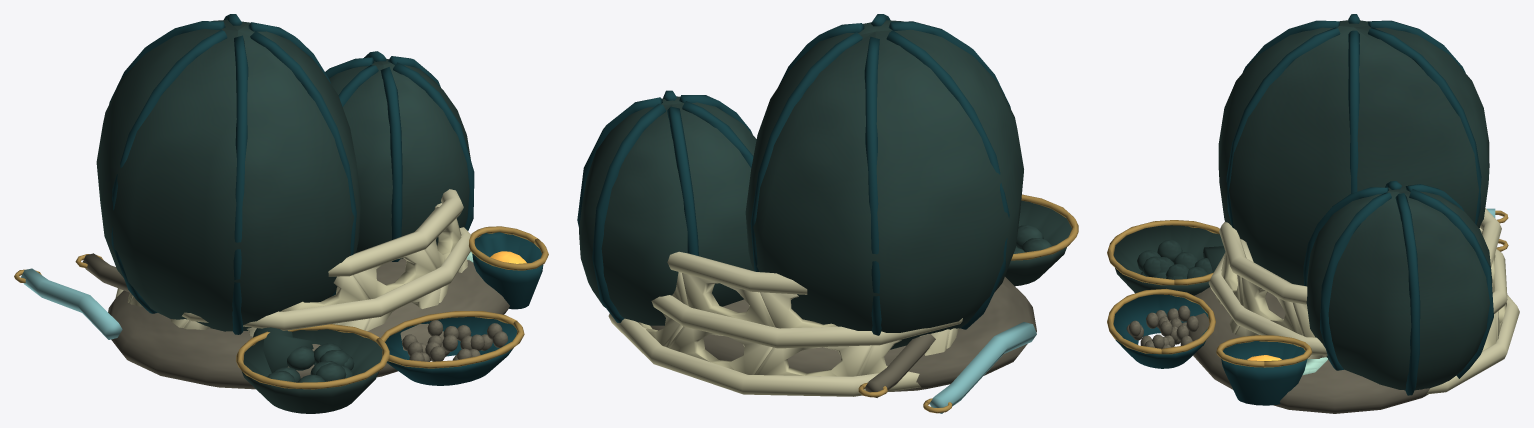
File: 10_waste_digester_lod.glb
The picture shows the model from 3 angles, left to right: view 1: azimuth 30°, elevation 25°; view 2: azimuth 150°, elevation 25°; view 3: azimuth 270°, elevation 25°; orthographic projection. The views are drawn at different scales.
Parts seen in each view (by area): view 1: GrowthShellMesh.009, GrowthFrameMesh.009, CargoOutput__recovered_fertiliserMesh, CargoInput__organic_wasteMesh; view 2: GrowthShellMesh.009, GrowthFrameMesh.009, CargoInput__organic_wasteMesh; view 3: GrowthShellMesh.009, GrowthFrameMesh.009, CargoInput__organic_wasteMesh, CargoOutput__recovered_fertiliserMesh.
Boxes of the visible parts, x1=… form: GrowthShellMesh.009: x1=21, y1=14, x2=543, y2=413; GrowthFrameMesh.009: x1=14, y1=189, x2=548, y2=389; CargoOutput__recovered_fertiliserMesh: x1=402, y1=320, x2=508, y2=361; CargoInput__organic_wasteMesh: x1=267, y1=343, x2=354, y2=382; GrowthShellMesh.009: x1=577, y1=14, x2=1071, y2=413; GrowthFrameMesh.009: x1=608, y1=194, x2=1078, y2=413; CargoInput__organic_wasteMesh: x1=1013, y1=225, x2=1052, y2=253; GrowthShellMesh.009: x1=1113, y1=14, x2=1495, y2=405; GrowthFrameMesh.009: x1=1107, y1=208, x2=1519, y2=413; CargoInput__organic_wasteMesh: x1=1137, y1=240, x2=1212, y2=279; CargoOutput__recovered_fertiliserMesh: x1=1126, y1=305, x2=1198, y2=349.
Size of the model in its own units: 3.38 by 2.61 by 3.22.
8 materials, 8 textured.
